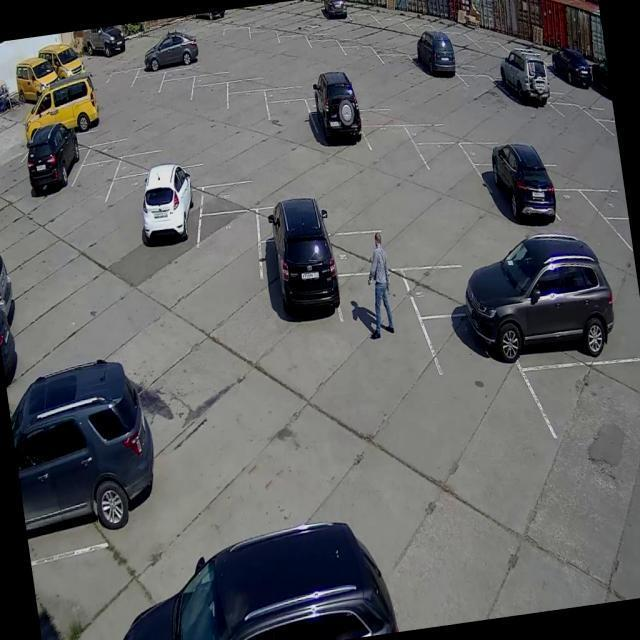space-empty: (31, 542, 184, 640), (540, 358, 640, 467), (338, 269, 416, 372), (405, 258, 506, 320), (193, 211, 266, 291), (328, 222, 419, 276), (364, 121, 422, 198), (418, 141, 474, 219), (553, 187, 608, 266), (252, 193, 340, 239), (104, 175, 156, 250), (201, 175, 287, 216), (70, 160, 119, 215), (460, 127, 517, 173), (558, 95, 604, 150), (116, 146, 185, 181), (405, 113, 458, 153), (462, 69, 500, 122), (589, 183, 630, 231), (534, 157, 585, 195), (147, 162, 215, 190), (88, 132, 148, 163), (271, 103, 311, 149), (343, 40, 381, 88), (231, 91, 268, 139), (356, 99, 411, 130), (380, 48, 416, 94), (310, 38, 348, 79), (278, 30, 311, 73), (437, 28, 474, 66), (160, 58, 210, 86), (377, 8, 413, 46), (192, 86, 229, 122), (474, 33, 514, 66), (264, 80, 309, 109), (249, 27, 280, 68), (230, 72, 275, 99), (135, 72, 165, 111), (191, 69, 237, 93), (410, 16, 440, 51), (163, 81, 196, 112), (223, 25, 250, 61), (109, 72, 139, 103), (350, 10, 378, 43)
space-occupied: (13, 416, 171, 544), (425, 316, 521, 446), (508, 275, 626, 361), (261, 228, 342, 339), (478, 156, 554, 241), (139, 191, 204, 266), (21, 137, 92, 194), (313, 95, 359, 158), (502, 74, 551, 130), (416, 46, 454, 101), (137, 46, 197, 80), (550, 53, 591, 101), (322, 0, 349, 24)
